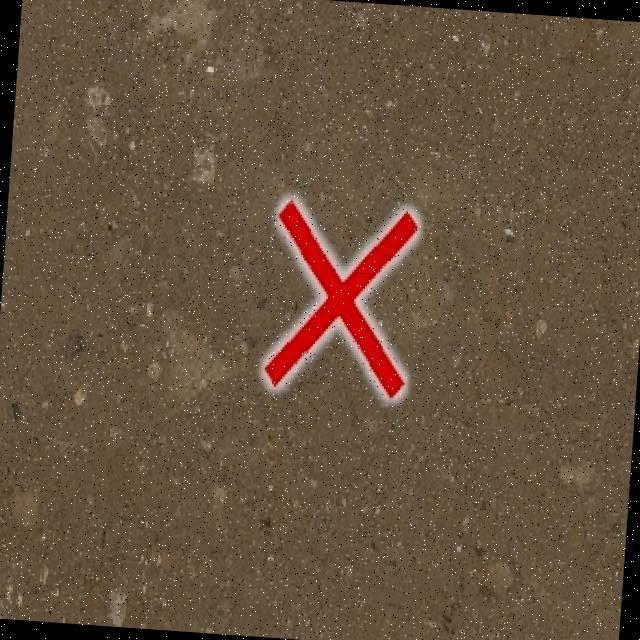x_marker: (262, 198, 417, 397)
